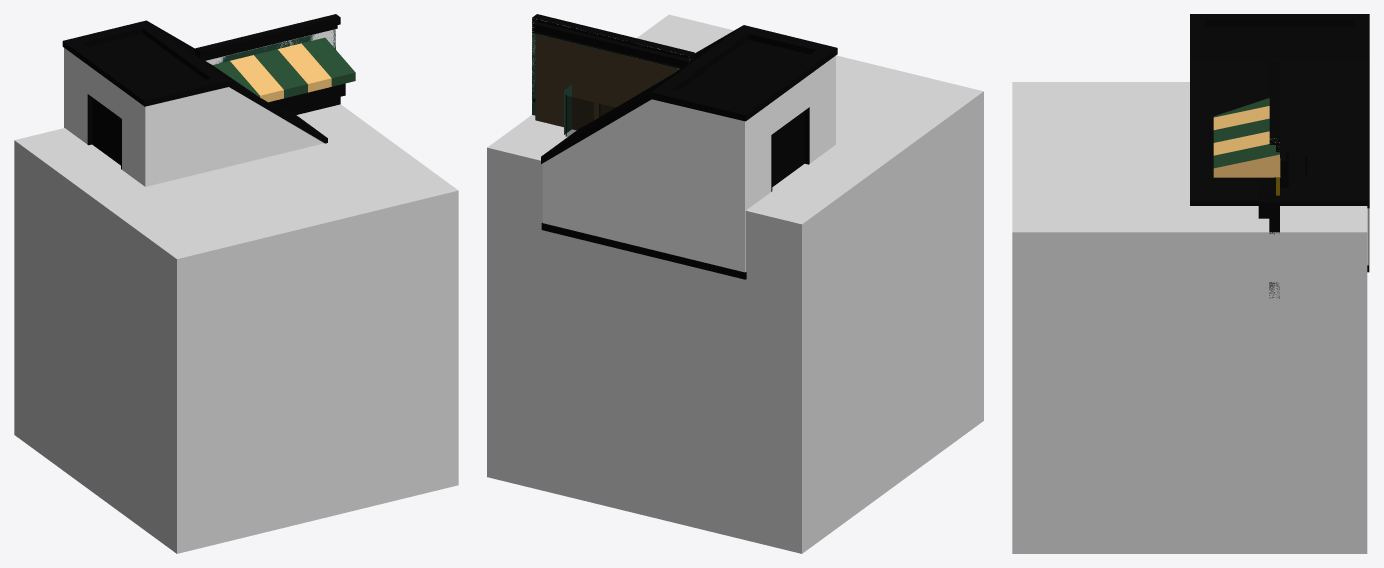
Rendered from здание.glb.
3 views of the same model, side by side, from view 1: azimuth 30°, elevation 25°; view 2: azimuth 150°, elevation 25°; view 3: azimuth 270°, elevation 25° (orthographic). The views are drawn at different scales.
Visible parts, largest first — view 1: Procedural Building, Cube, 1st window, Roof; view 2: Procedural Building, Cube, Plane.002, door, 1st window, Plane.003; view 3: Procedural Building, Cube, 1st window, Roof.
Boxes of the visible parts, left/top/right/bottom form: Procedural Building: left=14, top=104, right=458, bottom=553; Cube: left=62, top=20, right=327, bottom=186; 1st window: left=195, top=14, right=355, bottom=102; Roof: left=272, top=83, right=345, bottom=114; Procedural Building: left=487, top=14, right=983, bottom=553; Cube: left=541, top=25, right=837, bottom=279; Plane.002: left=533, top=34, right=678, bottom=130; door: left=532, top=18, right=694, bottom=136; 1st window: left=532, top=14, right=694, bottom=115; Plane.003: left=536, top=43, right=667, bottom=123; Procedural Building: left=1012, top=82, right=1367, bottom=553; Cube: left=1190, top=14, right=1369, bottom=272; 1st window: left=1213, top=62, right=1280, bottom=195; Roof: left=1258, top=177, right=1279, bottom=298.
Size of the model in its own units: 2 by 2.59 by 2.01.
Materials: 12 (2 with a texture image).
